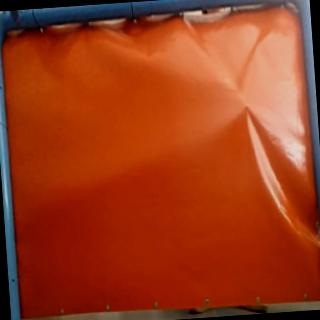Hit-hRxx: (239, 100, 254, 112)
